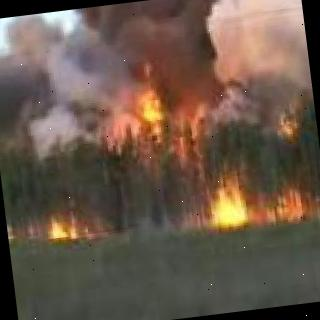fire: (127, 66, 171, 133), (208, 170, 252, 229), (46, 218, 89, 242), (286, 191, 312, 224)
